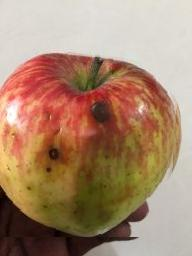Apple Semifresh: (0, 51, 180, 237)
